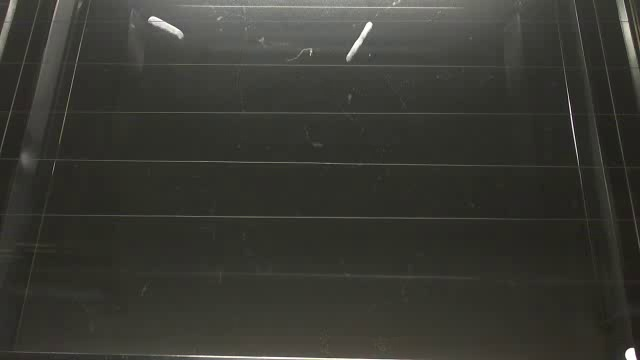Alfa: (345, 19, 374, 62), (145, 14, 187, 43)
